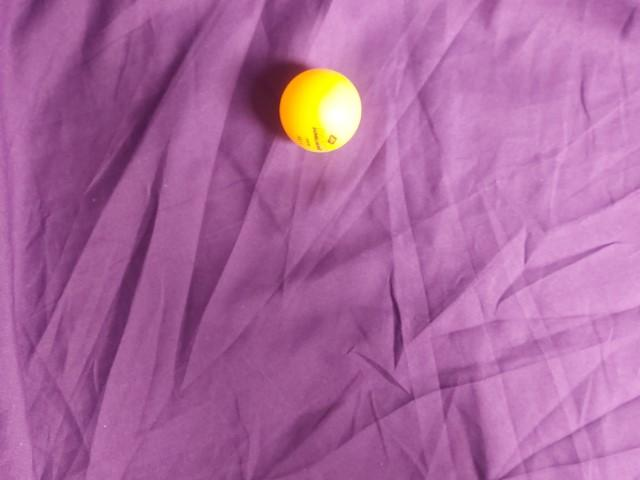oball: (266, 322, 370, 421)
